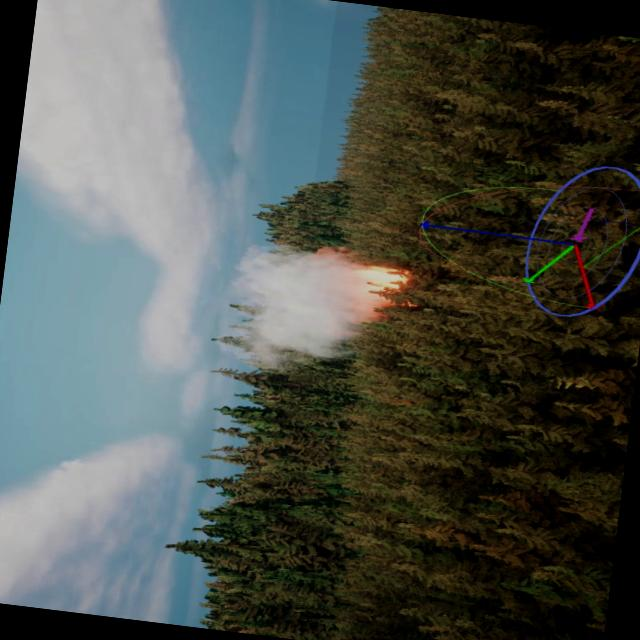fire: (352, 262, 404, 306)
smoke: (222, 231, 392, 375)
